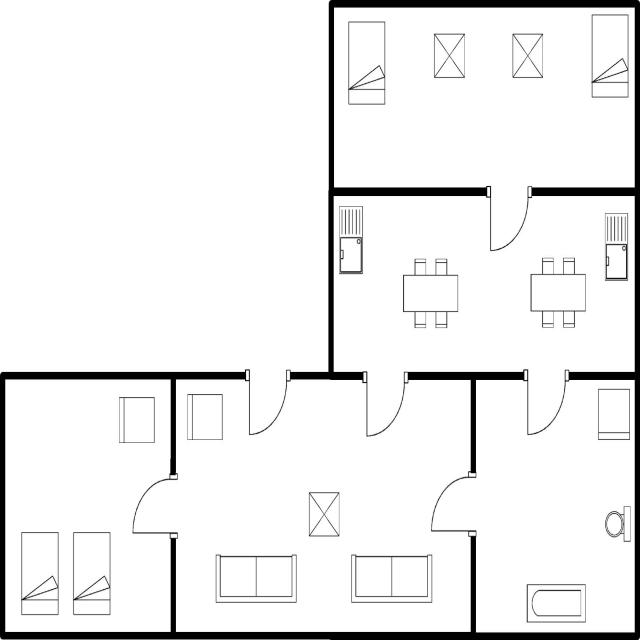bed: (70, 526, 116, 620), (18, 526, 62, 618), (344, 17, 388, 108), (588, 10, 630, 104)
coffee_table: (429, 28, 469, 86), (508, 29, 546, 82), (306, 488, 342, 542)
dining_table: (525, 252, 588, 334), (399, 254, 461, 334)
large_sink: (600, 501, 634, 547)
large_sofa: (212, 550, 300, 608), (348, 549, 434, 607)
sink: (338, 201, 366, 279), (602, 209, 630, 285)
small_sofa: (115, 392, 158, 449), (184, 388, 226, 446), (595, 384, 633, 444)
tub: (523, 580, 589, 628)
